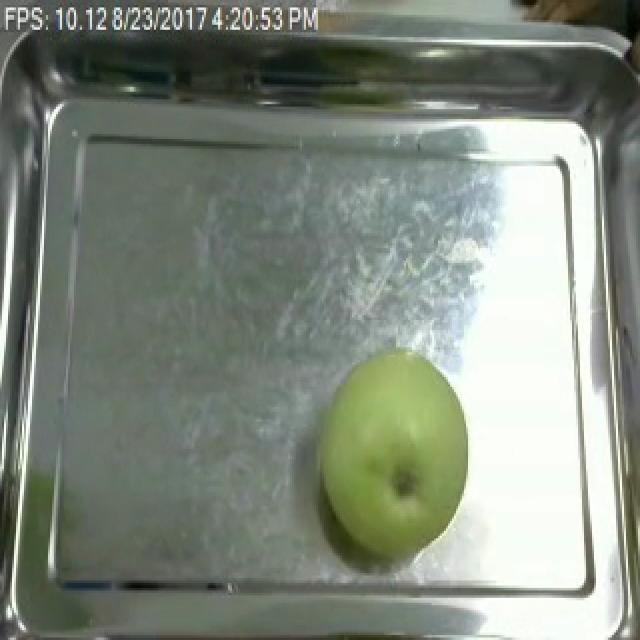50-_ripeness: (291, 344, 475, 566)
